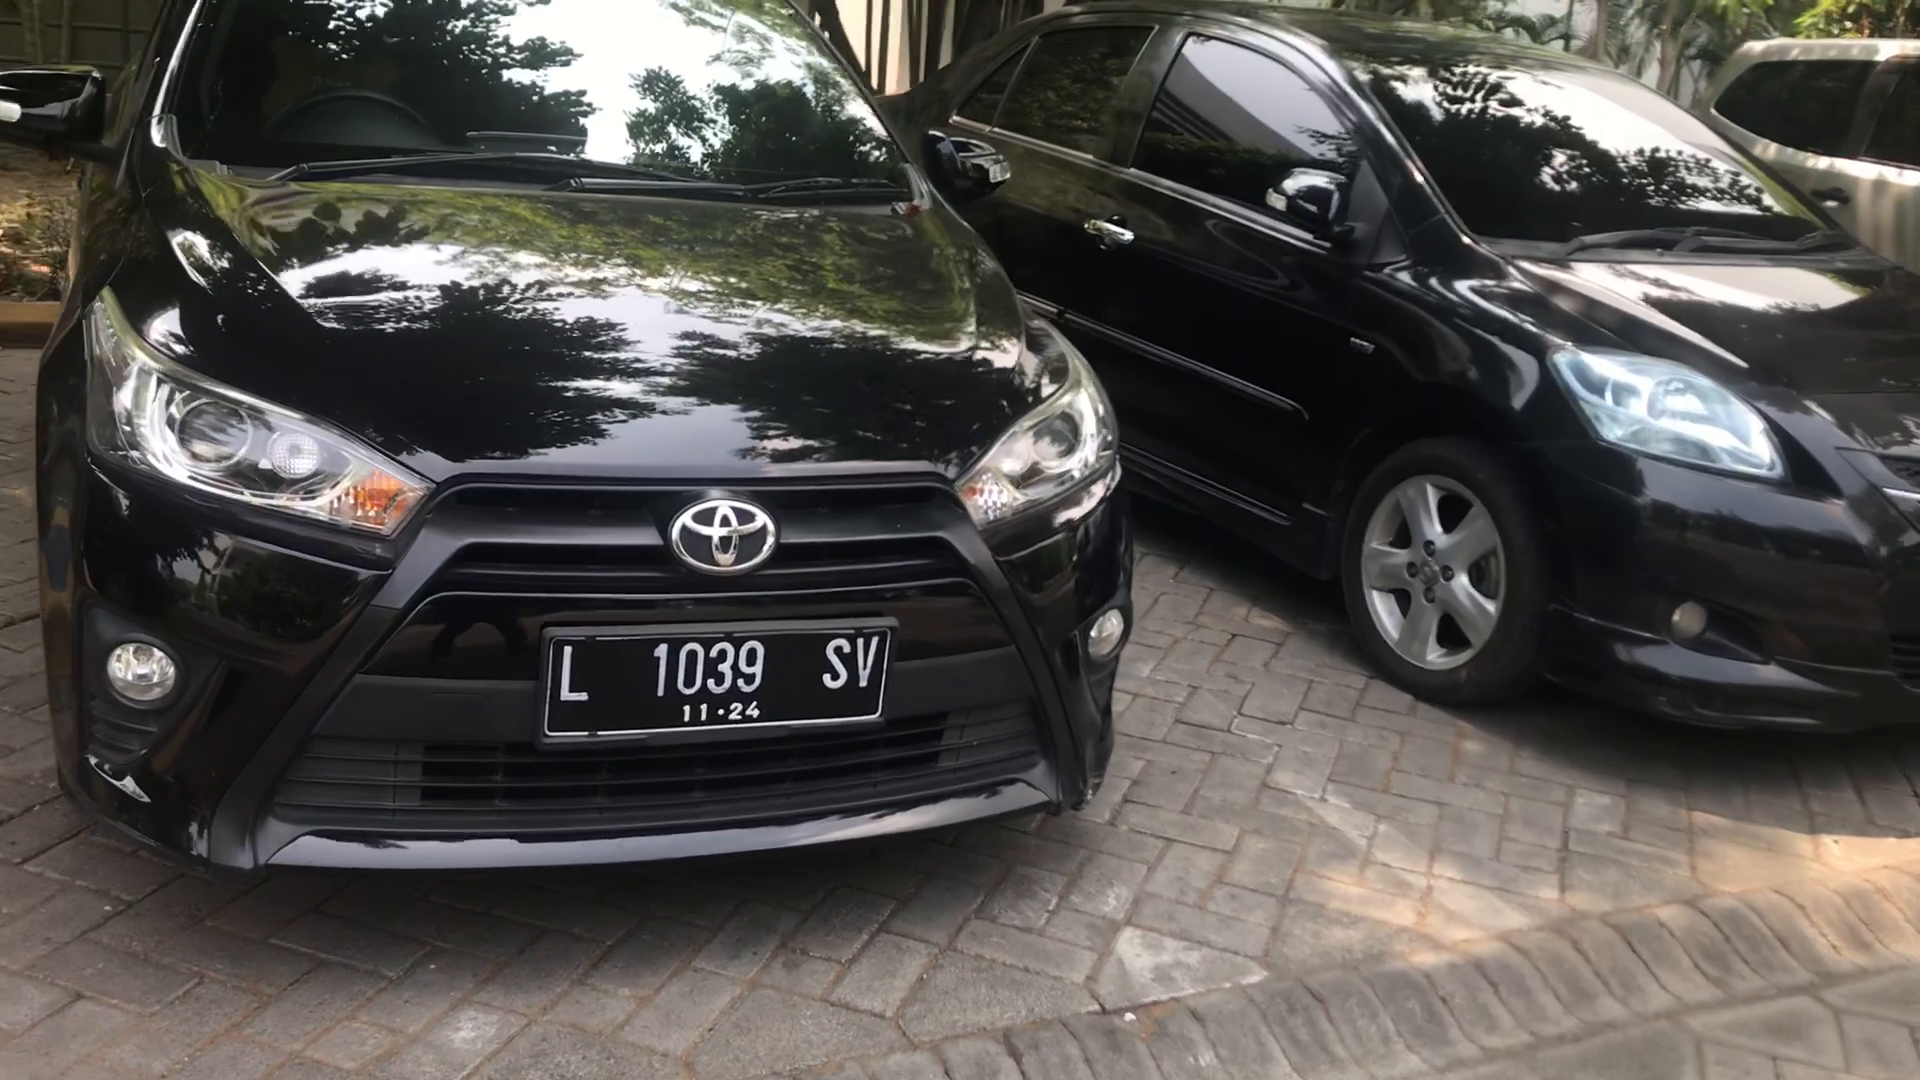plate: (542, 630, 892, 727)
